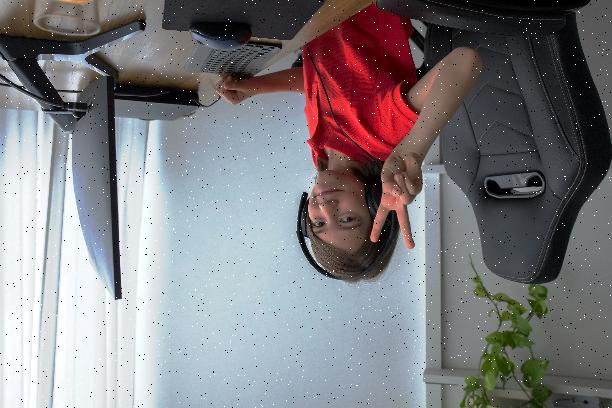Scissors: (368, 149, 428, 252)
